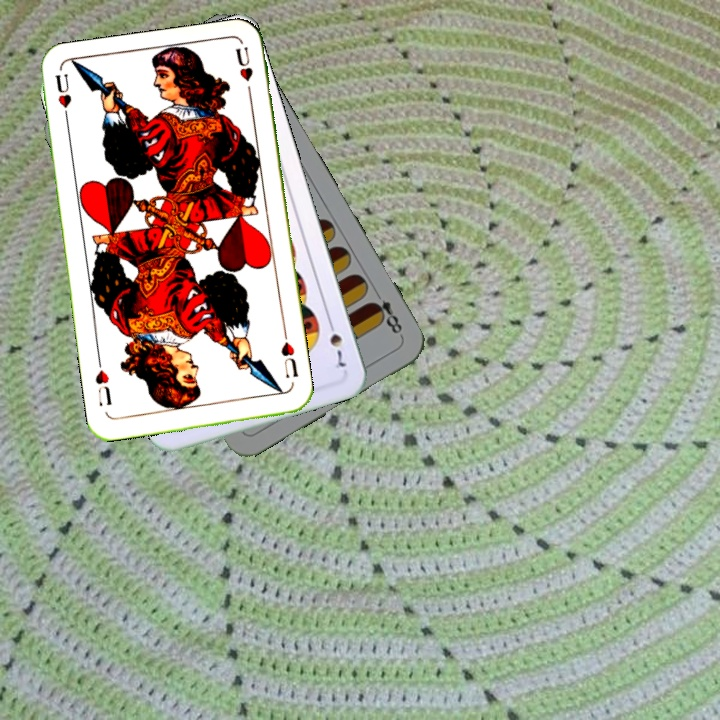E8: (366, 286, 405, 340)
HU: (51, 70, 74, 127), (277, 338, 301, 381)
S7: (324, 315, 349, 371)
